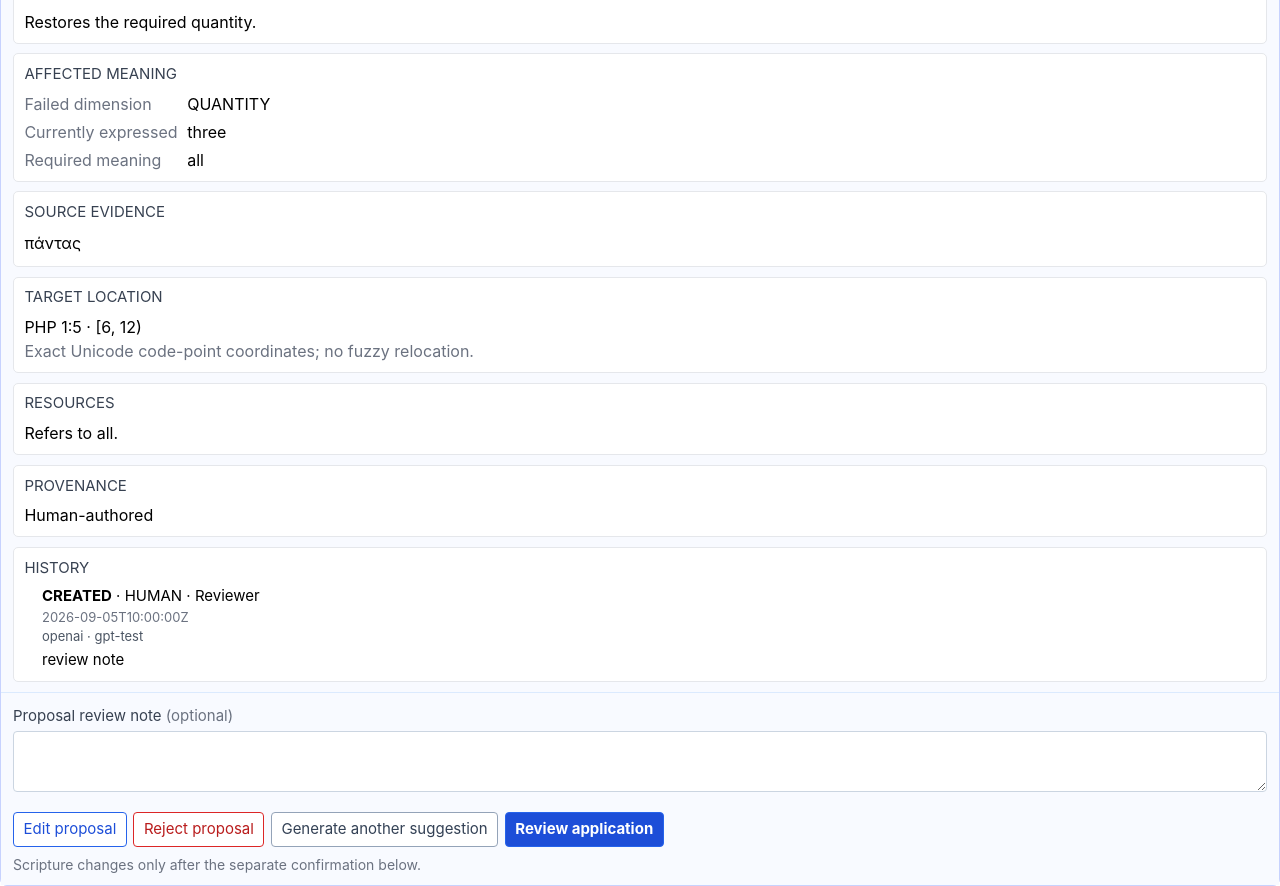
Scenario: CorrectionReviewPanel › V11-003: a human-authored proposal reaches Review application with no edit round-trip
The width and height of the screenshot is (1280, 886).
(page scrolled)
Click the button "Review application" at (584, 829), box [505, 812, 664, 847]
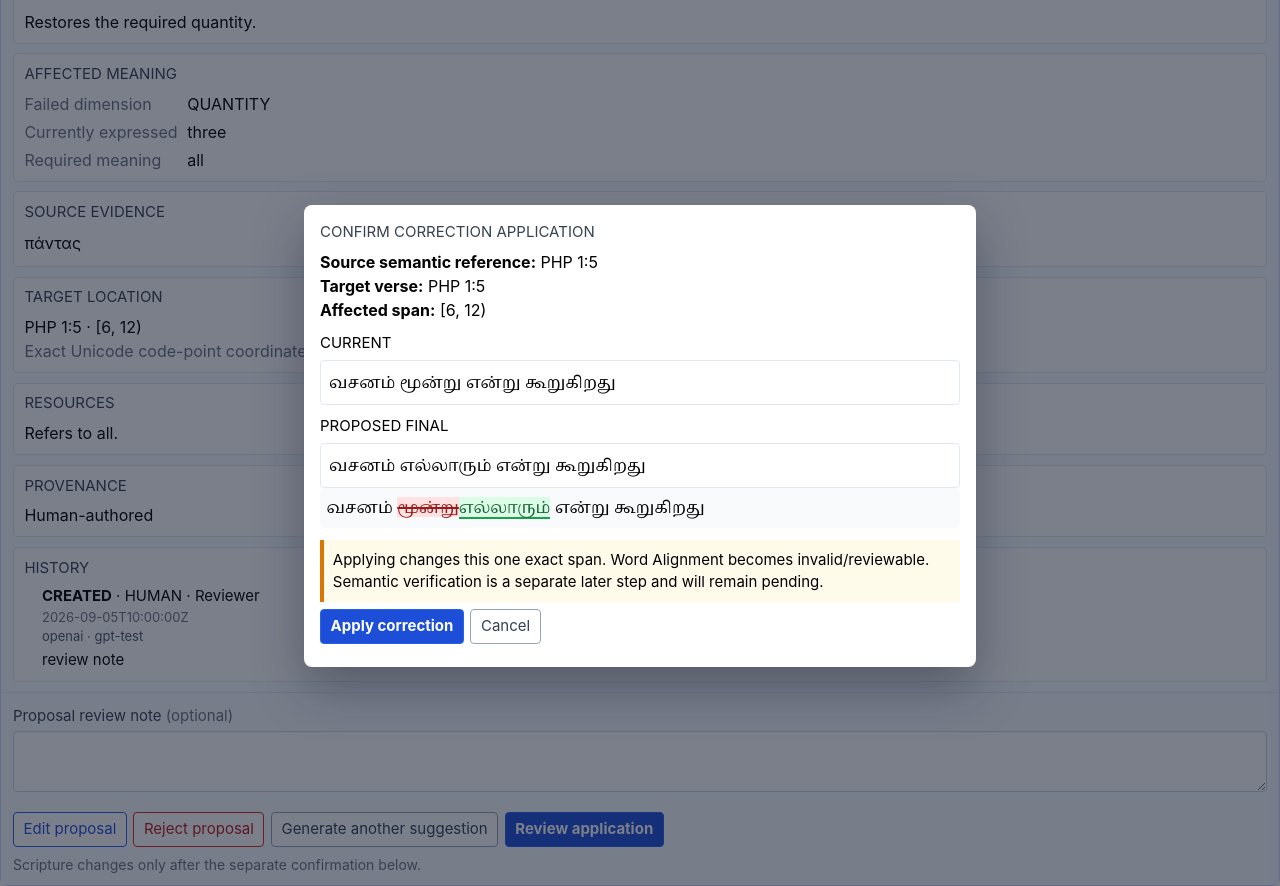
Now the dialog "Confirm correction application" is shown, box [304, 205, 976, 667]
